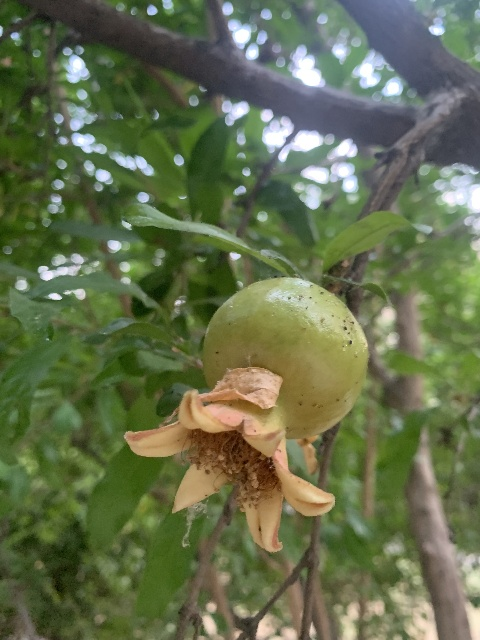mid-growth: (123, 276, 368, 550)
